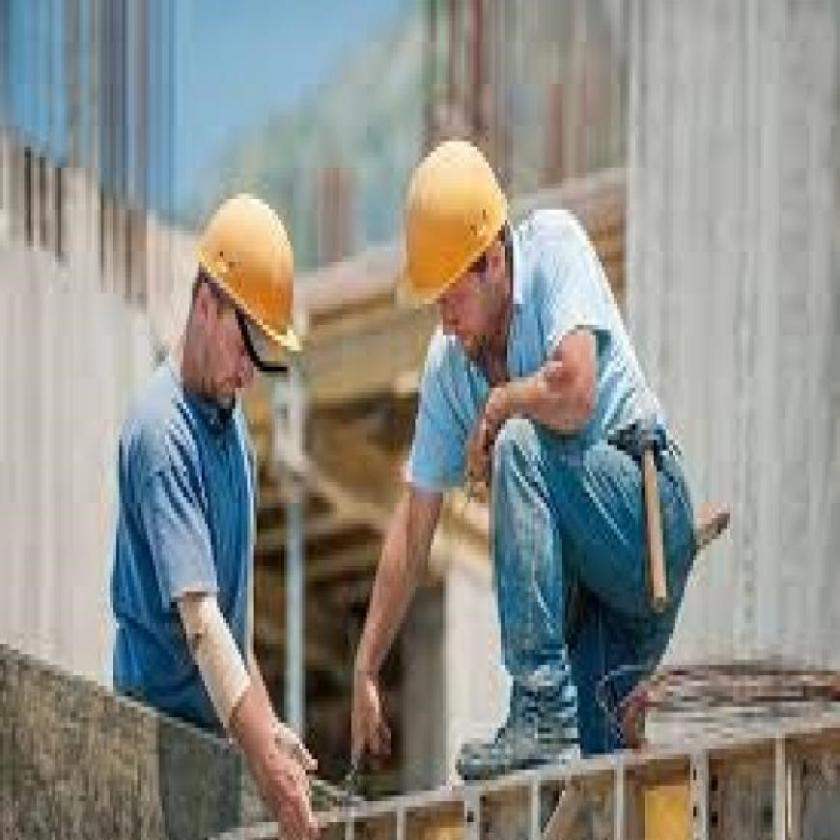Con_casco: (182, 200, 306, 440), (394, 140, 516, 380)
